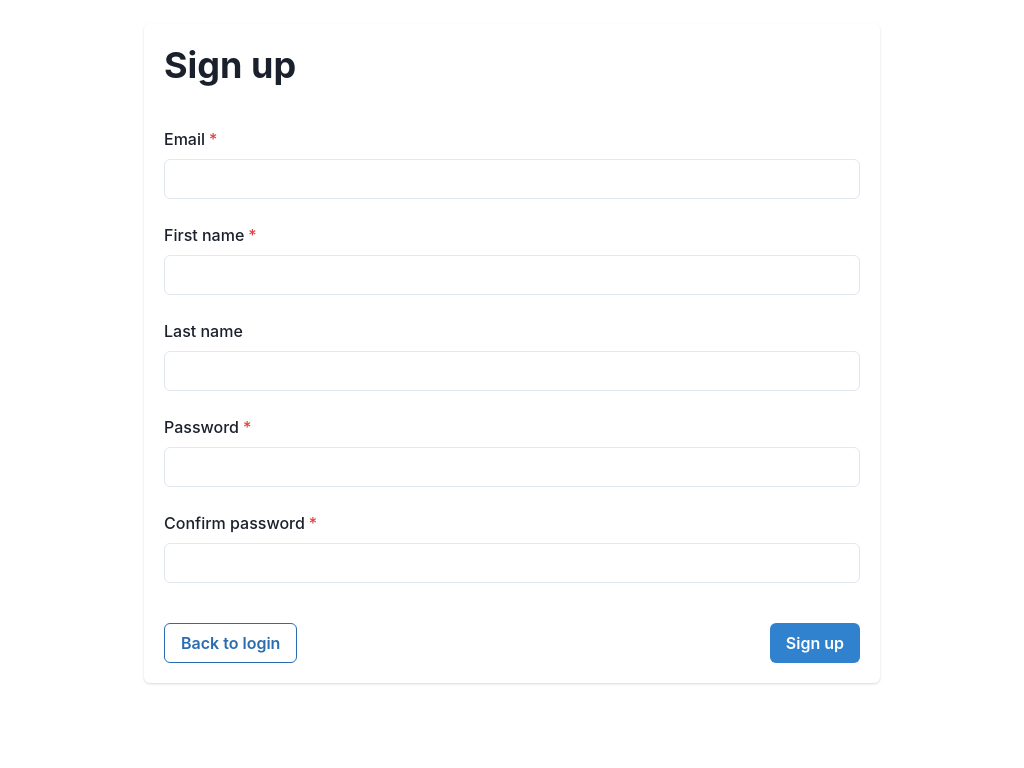
it: SignUp › should show password don't match error
This screenshot has width=1024, height=768.
In the password field with test id "password": (512, 467) [164,447,860,487], type "fooB4rPassW0rd"
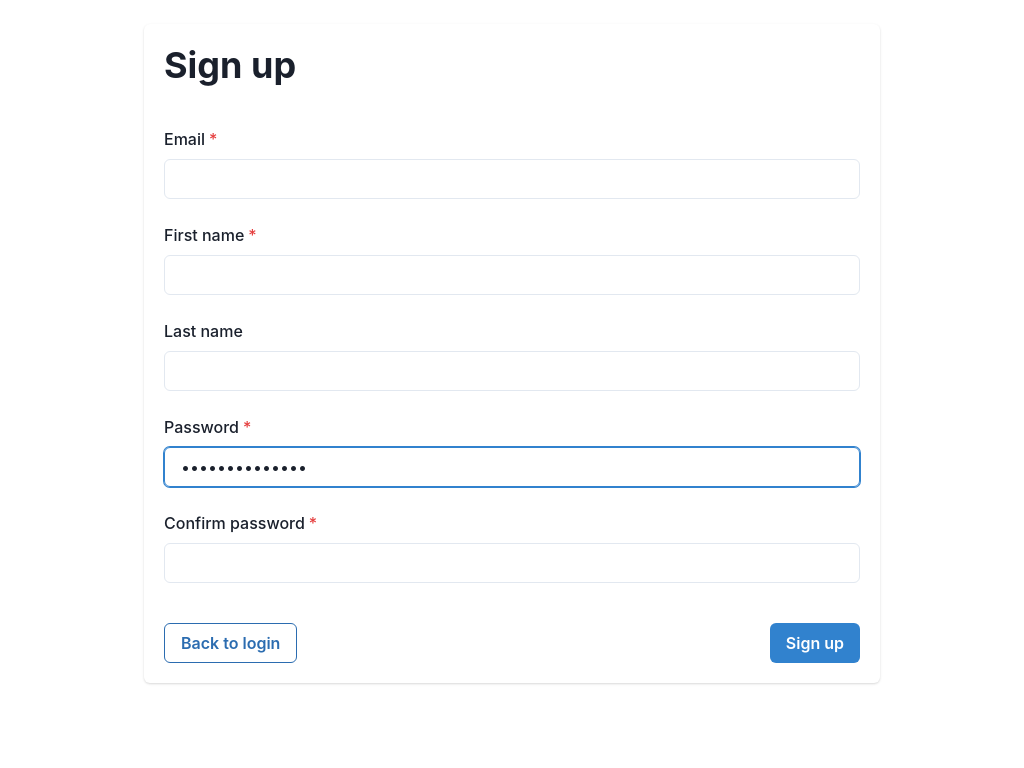
In the password field with test id "confirmPassword": (512, 563) [164,543,860,583], type "does not match"
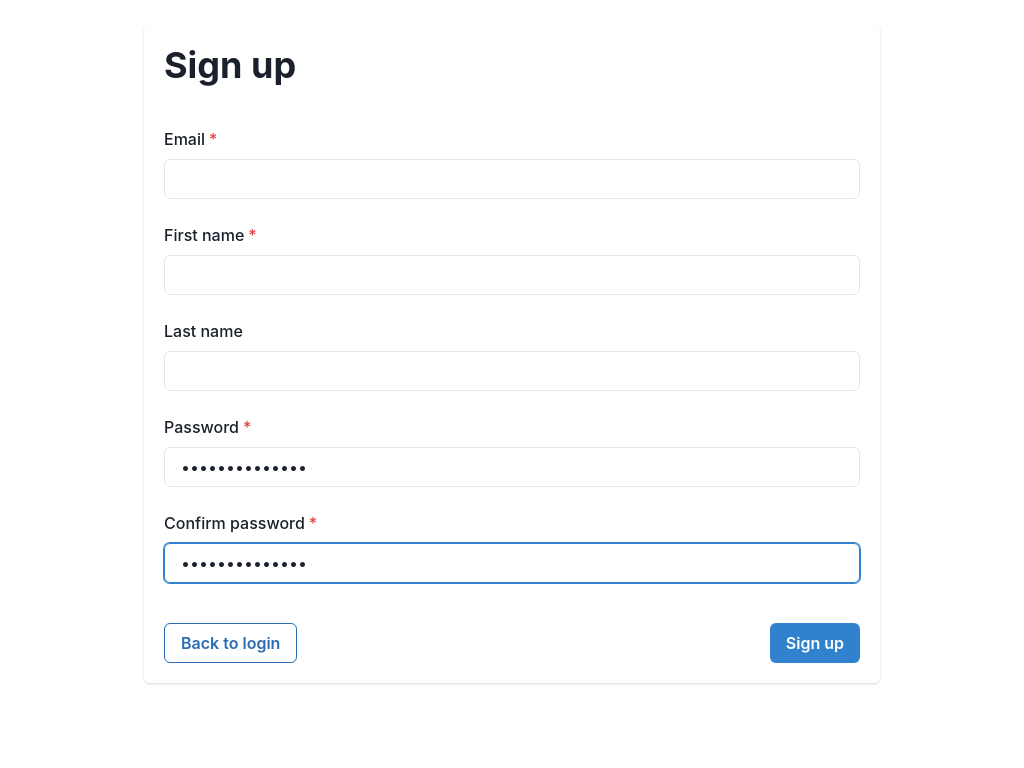
Click the button "Sign up": (815, 643) [770,623,860,663]
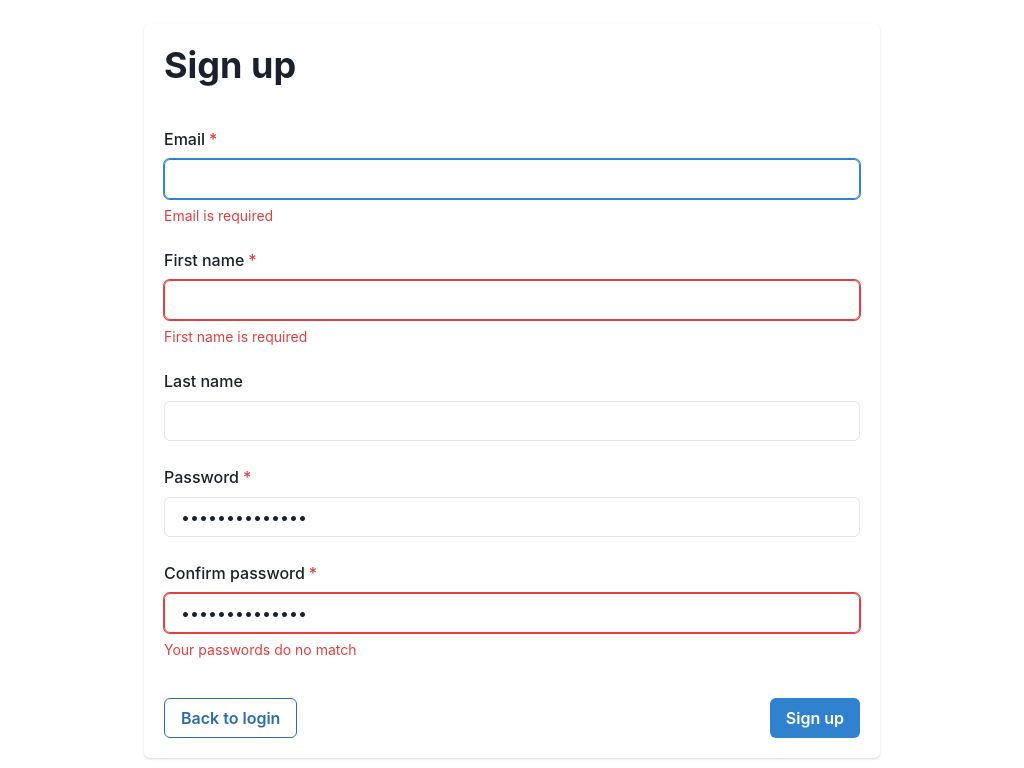
Expected: the text "Your passwords do no match" is shown, [164,641,357,658]
